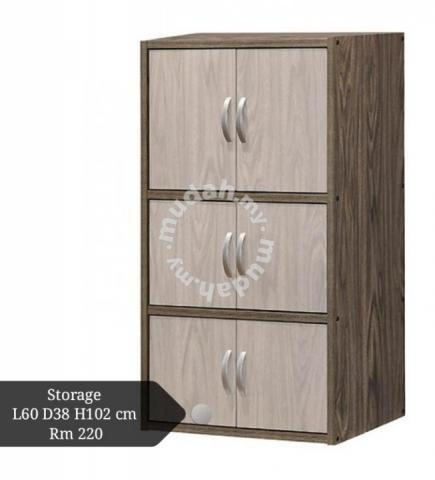cabinet_door: (236, 46, 328, 191), (151, 47, 237, 187), (234, 204, 328, 314), (240, 325, 328, 432), (150, 200, 234, 308), (153, 319, 236, 422)
handle: (219, 351, 236, 398), (235, 94, 250, 147), (220, 95, 235, 148), (220, 232, 235, 280), (235, 351, 250, 397), (236, 231, 250, 278)
